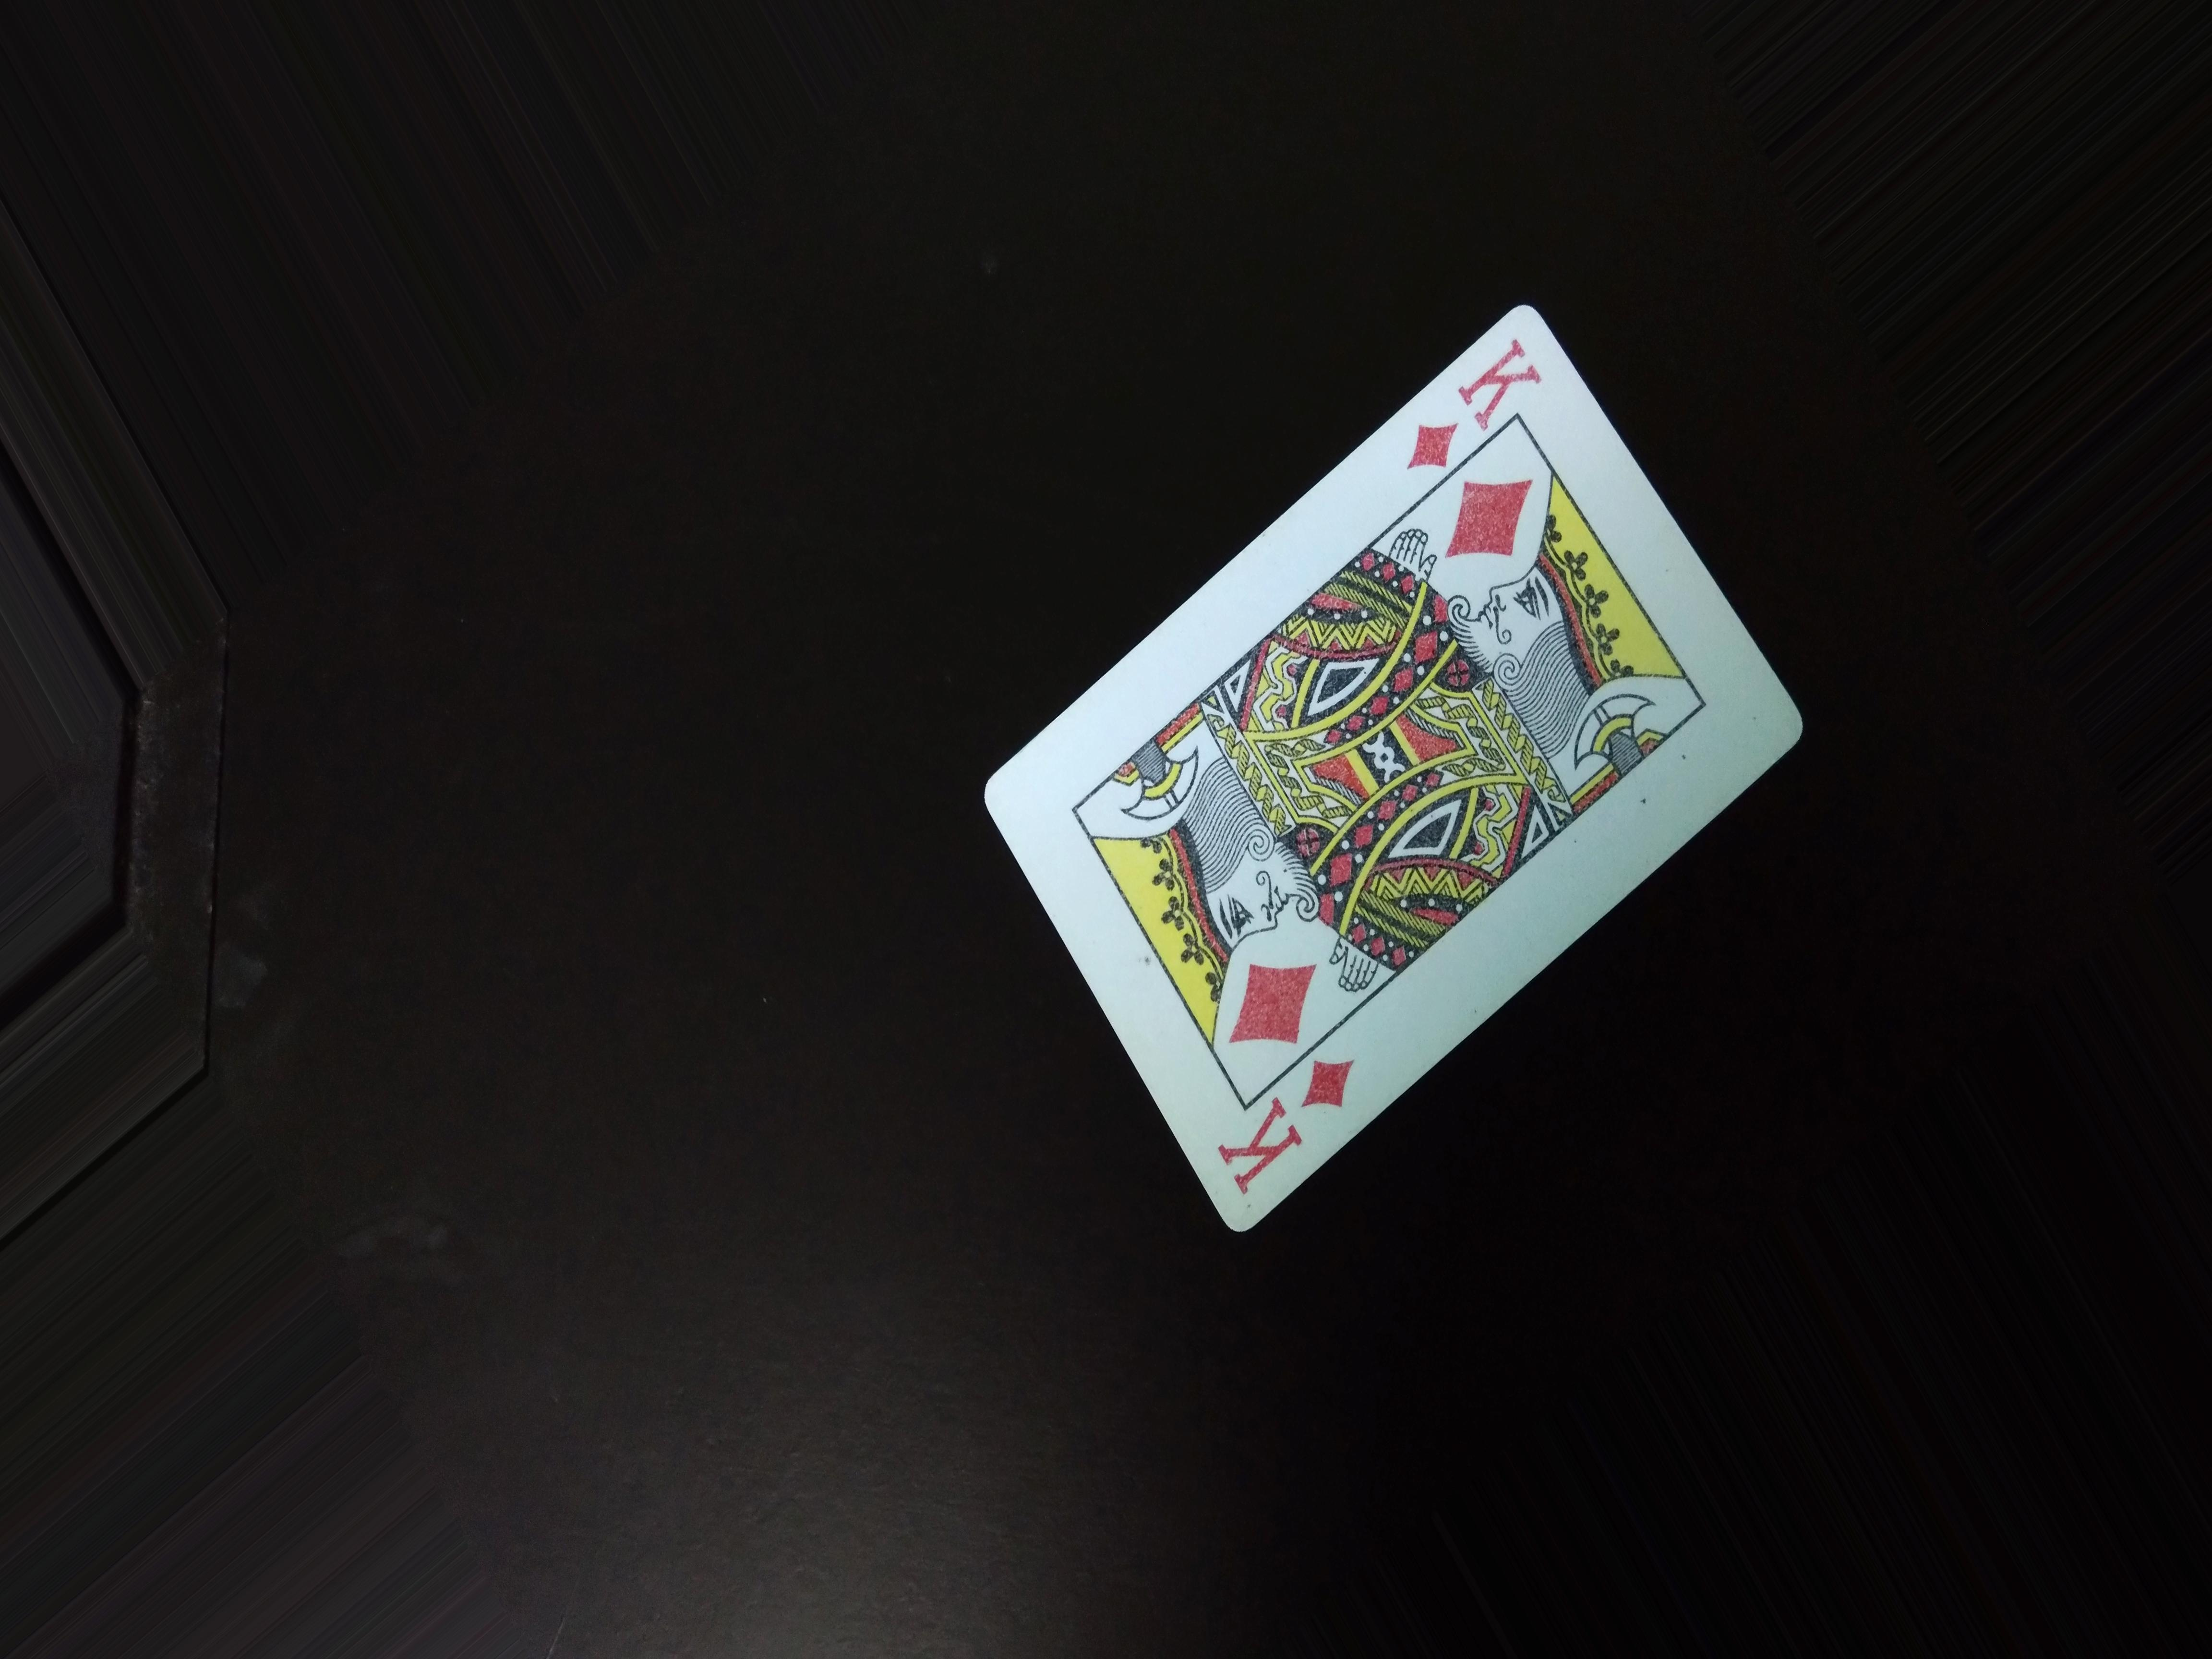KD: (1388, 335, 1536, 484)
